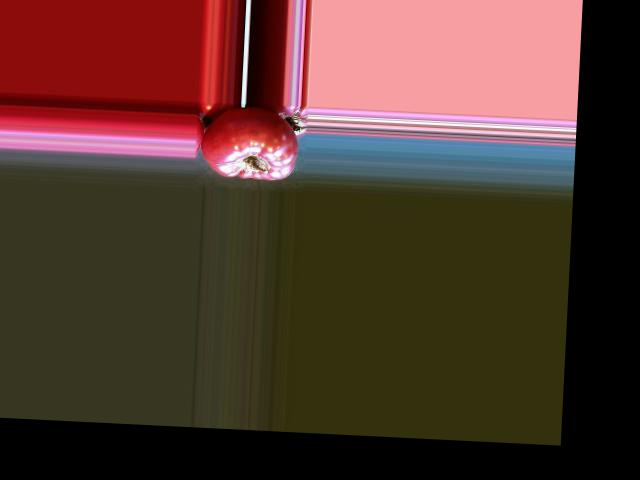tomato: (198, 104, 299, 181)
